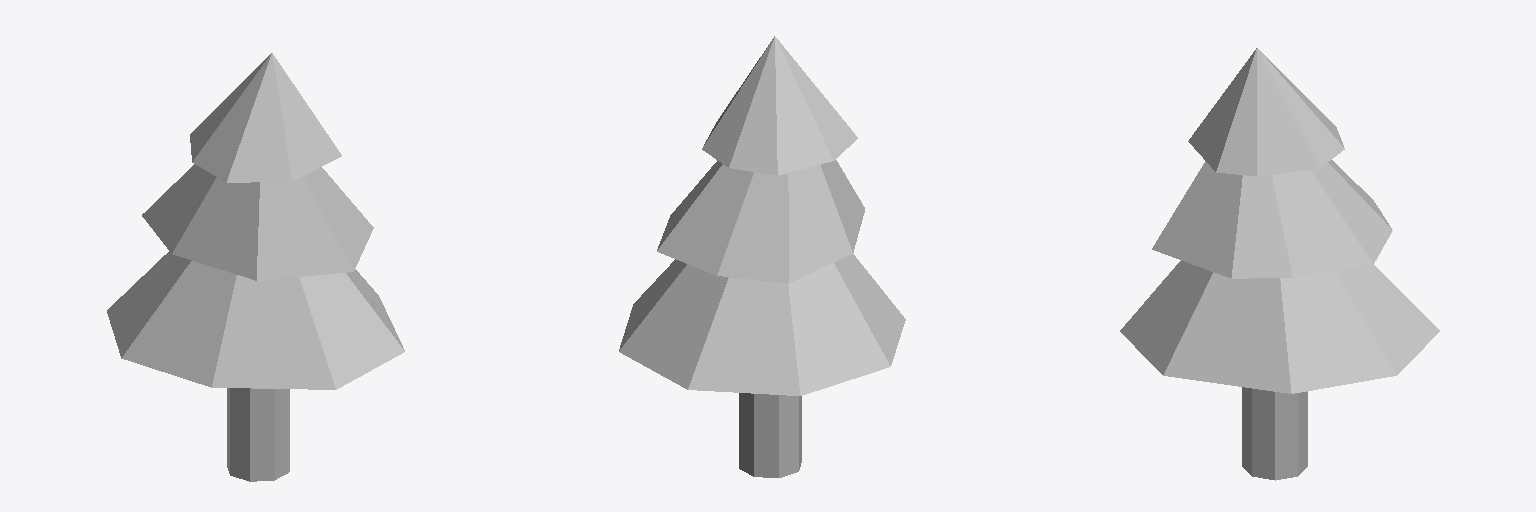
File: arvore4.obj
3 renders of one model, left to right at view 1: azimuth 30°, elevation 25°; view 2: azimuth 150°, elevation 25°; view 3: azimuth 270°, elevation 25°, orthographic.
Parts seen in each view (by area): view 1: Cylinder_Material.002_0, Cylinder_Material.001_0; view 2: Cylinder_Material.002_0, Cylinder_Material.001_0; view 3: Cylinder_Material.002_0, Cylinder_Material.001_0.
Part boxes in pixels (left/top/right/bottom): Cylinder_Material.002_0: left=107, top=53, right=404, bottom=389; Cylinder_Material.001_0: left=227, top=388, right=289, bottom=481; Cylinder_Material.002_0: left=619, top=36, right=905, bottom=395; Cylinder_Material.001_0: left=739, top=393, right=801, bottom=477; Cylinder_Material.002_0: left=1120, top=48, right=1439, bottom=393; Cylinder_Material.001_0: left=1242, top=387, right=1307, bottom=480.
Bounding box in the file's own units: 279 × 436 × 301.